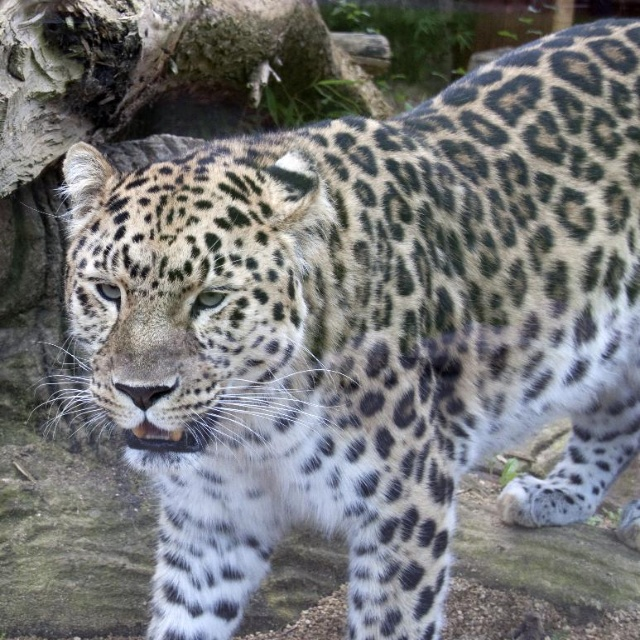Leopard: (18, 15, 640, 640)
